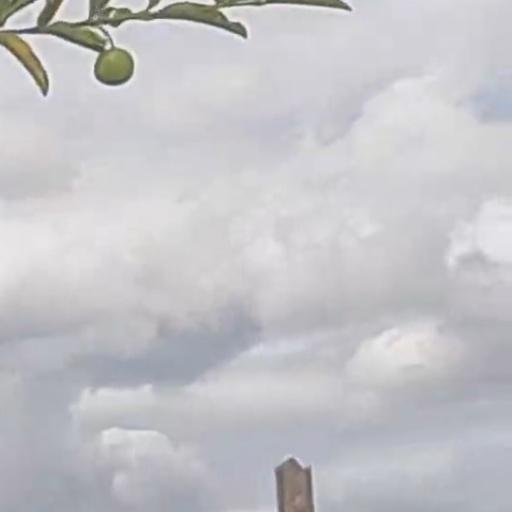acerola_verde: (95, 48, 134, 85)
